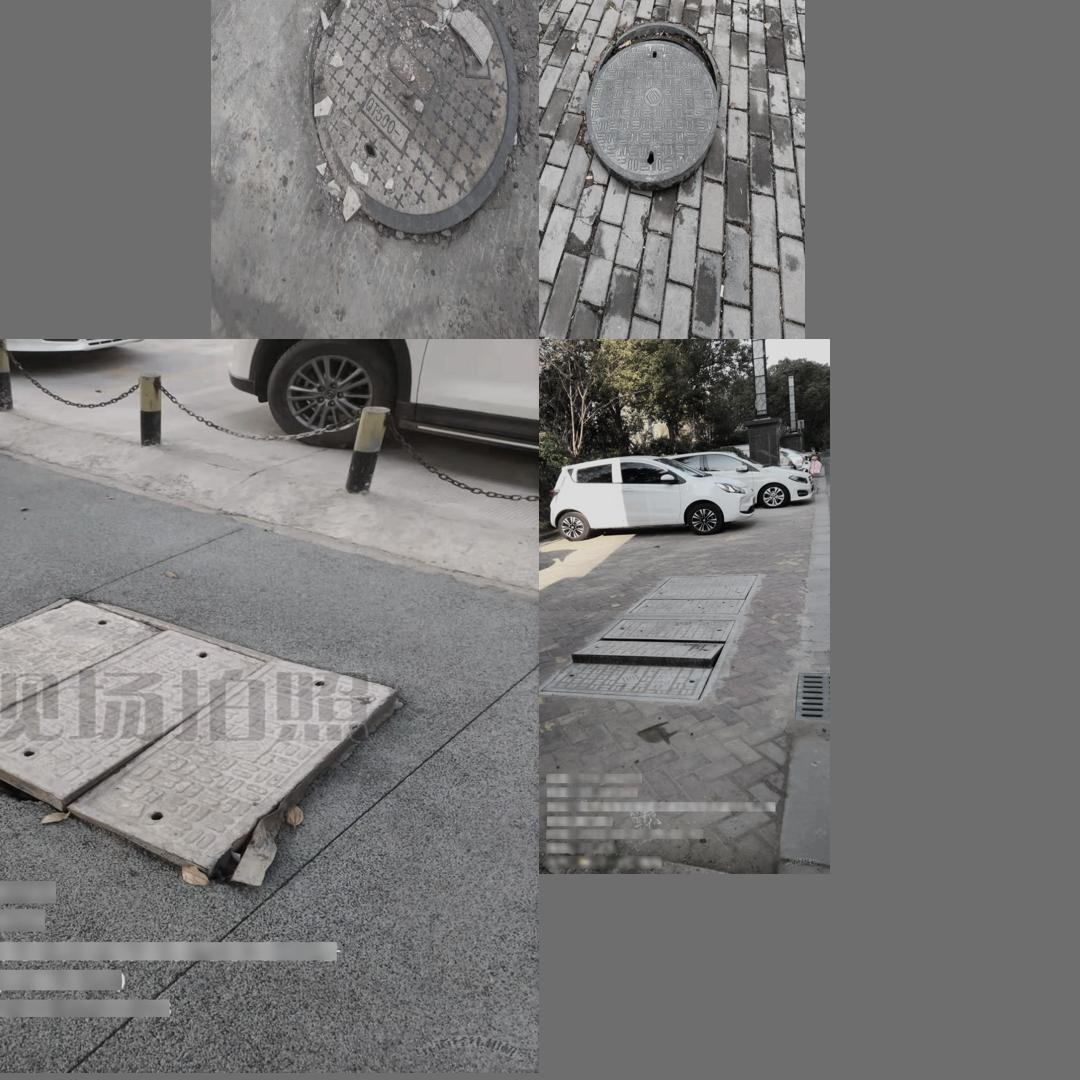good: (628, 571, 760, 616)
uncovered: (0, 593, 396, 872), (308, 0, 518, 234), (584, 16, 731, 169), (539, 617, 739, 703)
